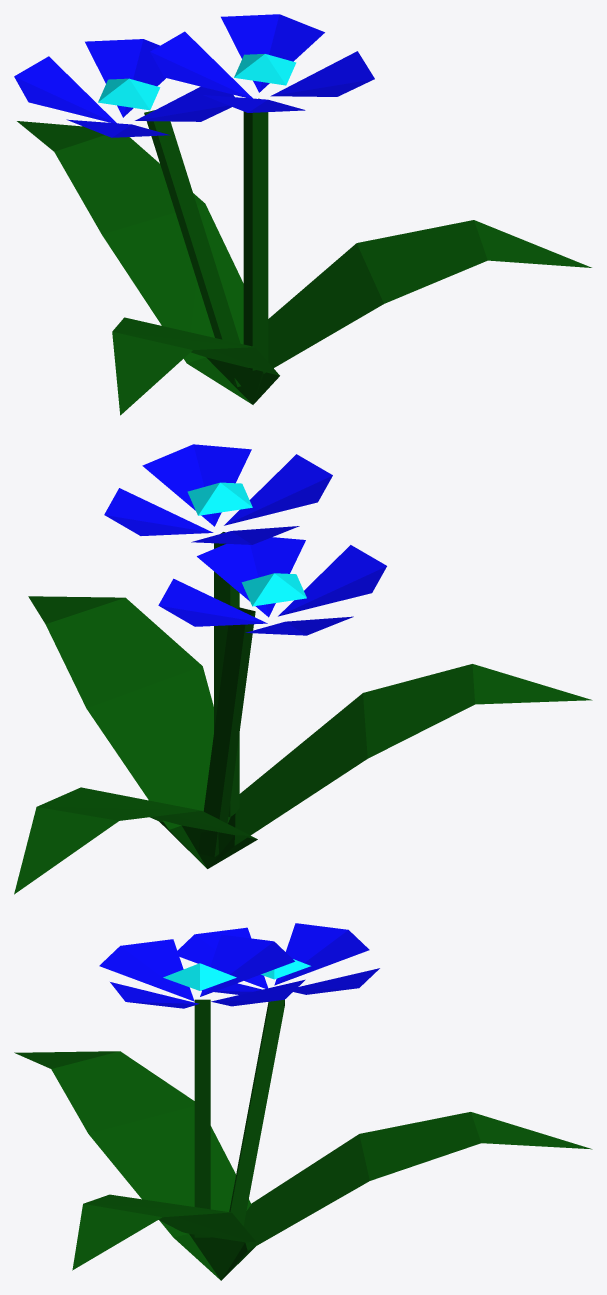
Rendered from blueflower.obj.
The picture shows the model from 3 angles, top to bottom: view 1: azimuth 30°, elevation 25°; view 2: azimuth 150°, elevation 25°; view 3: azimuth 270°, elevation 25°; orthographic projection. The views are drawn at different scales.
Parts seen in each view (by area): view 1: blueflower_back; view 2: blueflower_back; view 3: blueflower_back.
Boxes of the visible parts, bbox=[...] form: blueflower_back: bbox=[14, 14, 591, 415]; blueflower_back: bbox=[14, 444, 592, 894]; blueflower_back: bbox=[14, 923, 592, 1280].
Size of the model in its own units: 0.97 by 0.66 by 1.09.
